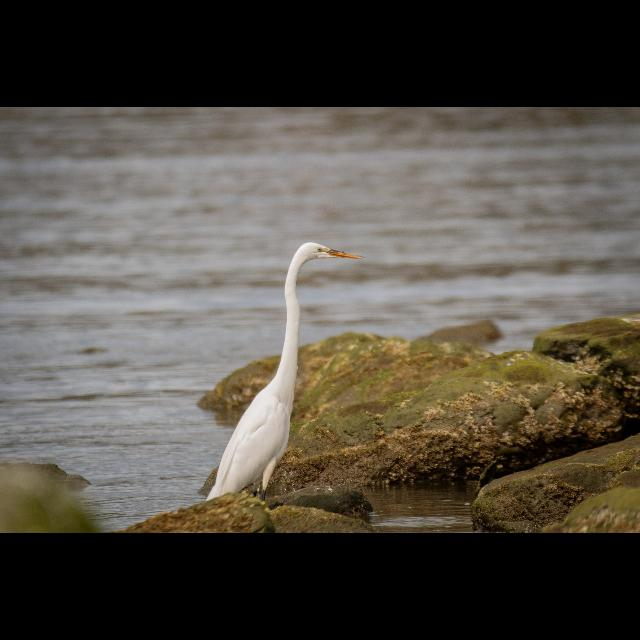egret: (214, 232, 366, 508)
